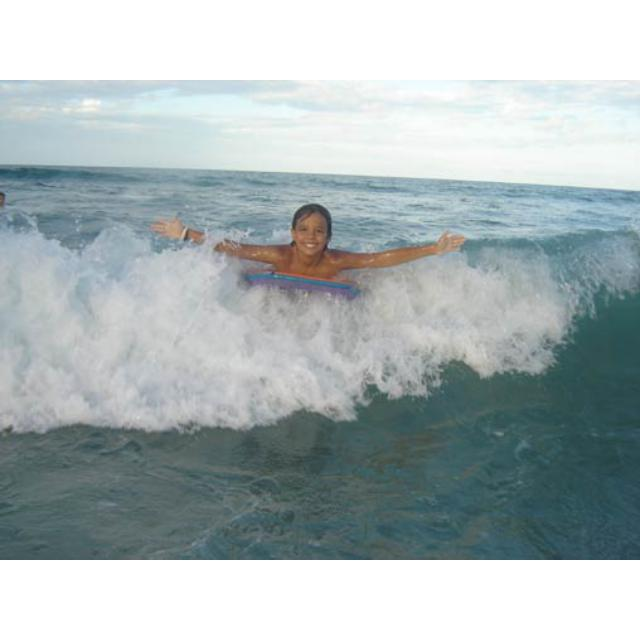human: (153, 205, 467, 293)
